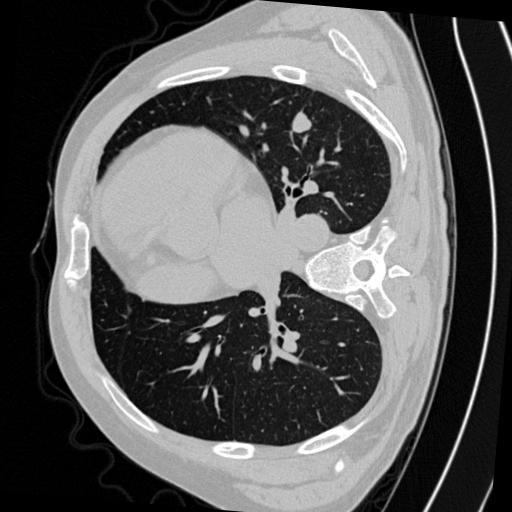nodule: (289, 113, 314, 138)
